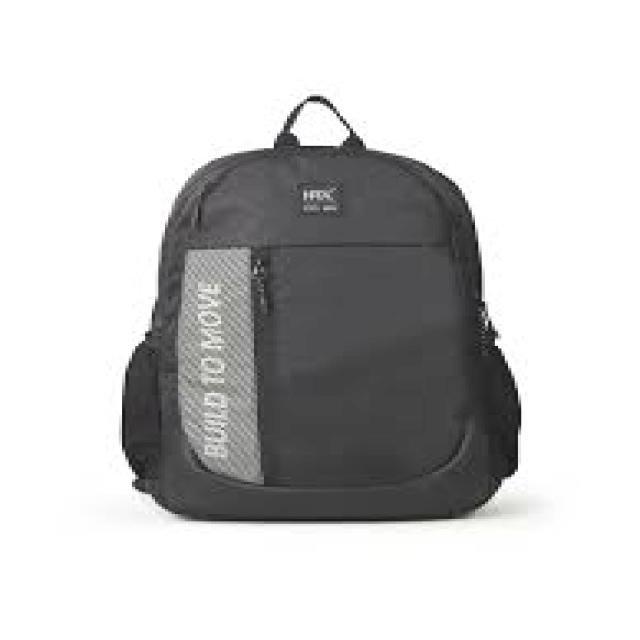backpack: (120, 95, 522, 523)
